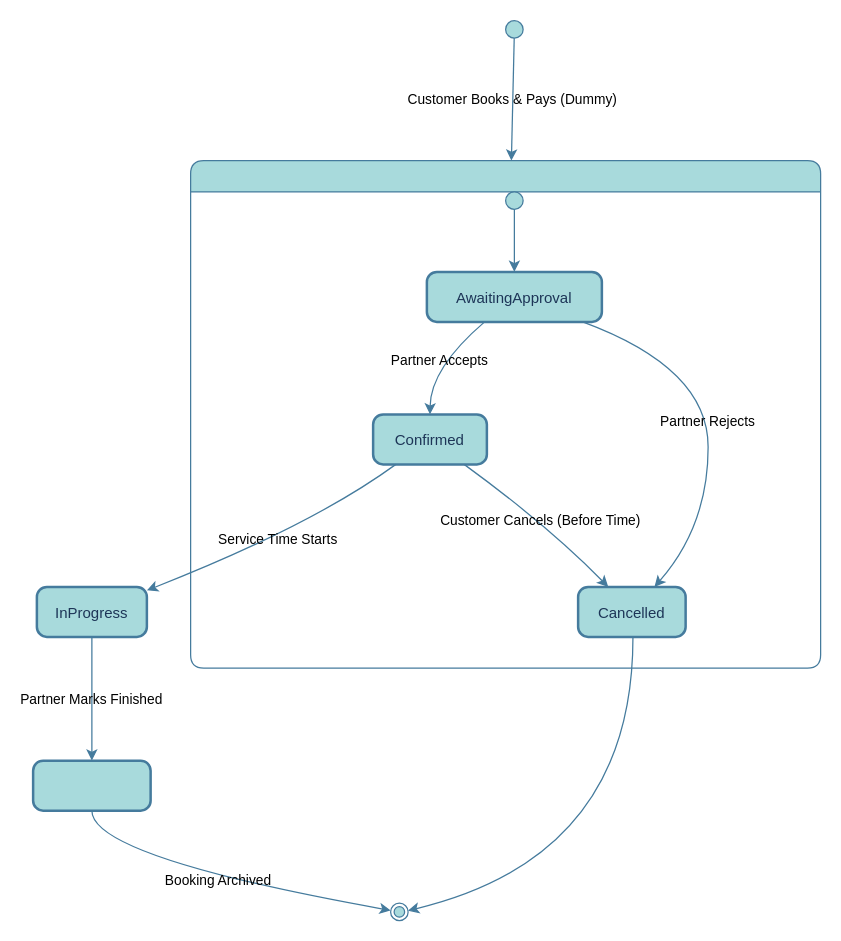
Some shapes in this 841 by 941 pixel diagram are drawn without their labels. The shapes that lost their labels are listed below. From the top down, each one's box as (x1, y1, x2, y2) in pixels, then its label:
(189, 159, 821, 668): Pending
(31, 759, 151, 811): Completed
